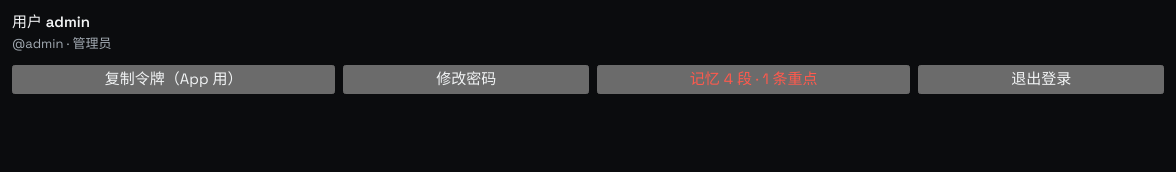
Test: AccountSessionControls › does not claim token-copy success when the clipboard rejects
Step 1. Click the button "复制令牌（App 用）" → (174, 79), box [12,65,335,94]
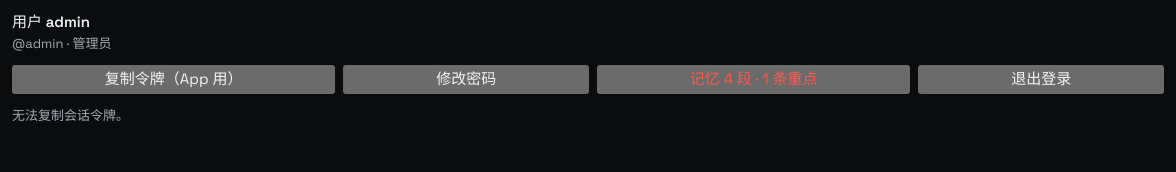
Expected: the text "无法复制会话令牌。" is shown, [12,106,129,124]
